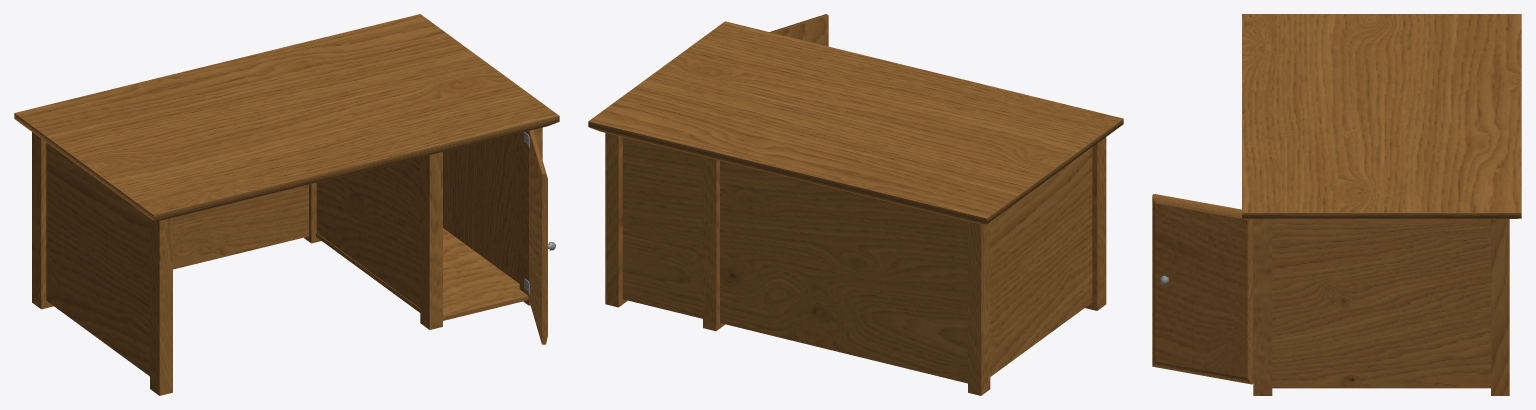
Rendered from Table.fbx.
The picture shows the model from 3 angles, left to right: view 1: azimuth 30°, elevation 25°; view 2: azimuth 150°, elevation 25°; view 3: azimuth 270°, elevation 25°; orthographic projection. The views are drawn at different scales.
Parts seen in each view (by area): view 1: pCube1, pCube9, pCube11, pCube10, pCube8, pCube12, pCube5, pCube7, pCube13, pCube2, pCube6, pCube4; view 2: pCube1, pCube8, pCube9, pCube2, pCube3, pCube4, pCube5, pCube13; view 3: pCube1, pCube10, pCube13, pCube6, pCube3, pCube12.
Part boxes in pixels (<box>): pCube1: <box>14,14,559,220</box>; pCube9: <box>46,142,149,376</box>; pCube11: <box>316,157,420,307</box>; pCube10: <box>443,133,519,283</box>; pCube8: <box>173,184,308,269</box>; pCube12: <box>316,228,528,320</box>; pCube5: <box>150,218,172,395</box>; pCube7: <box>420,152,442,329</box>; pCube13: <box>529,130,547,344</box>; pCube2: <box>32,132,53,309</box>; pCube6: <box>519,127,542,305</box>; pCube4: <box>304,183,321,243</box>; pCube1: <box>588,21,1123,224</box>; pCube8: <box>622,137,967,383</box>; pCube9: <box>990,147,1092,376</box>; pCube2: <box>968,221,990,395</box>; pCube3: <box>605,133,627,307</box>; pCube4: <box>703,156,724,331</box>; pCube5: <box>1085,137,1106,310</box>; pCube13: <box>770,14,828,46</box>; pCube1: <box>1242,14,1521,218</box>; pCube10: <box>1272,219,1490,386</box>; pCube13: <box>1152,194,1253,384</box>; pCube6: <box>1253,219,1272,395</box>; pCube3: <box>1491,219,1509,395</box>; pCube12: <box>1272,386,1490,388</box>.
Bounding box in the file's own units: 10.34 × 4.57 × 8.12.
